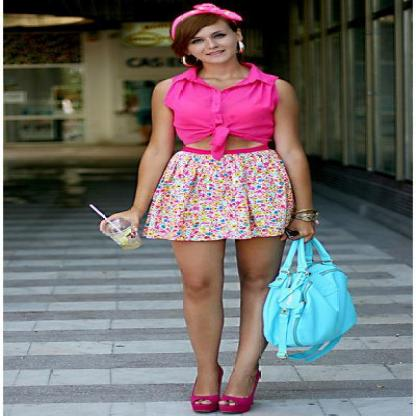bag: (263, 237, 358, 361)
shirt: (164, 65, 279, 156)
shoe: (191, 391, 255, 415)
skirt: (136, 149, 309, 240)
